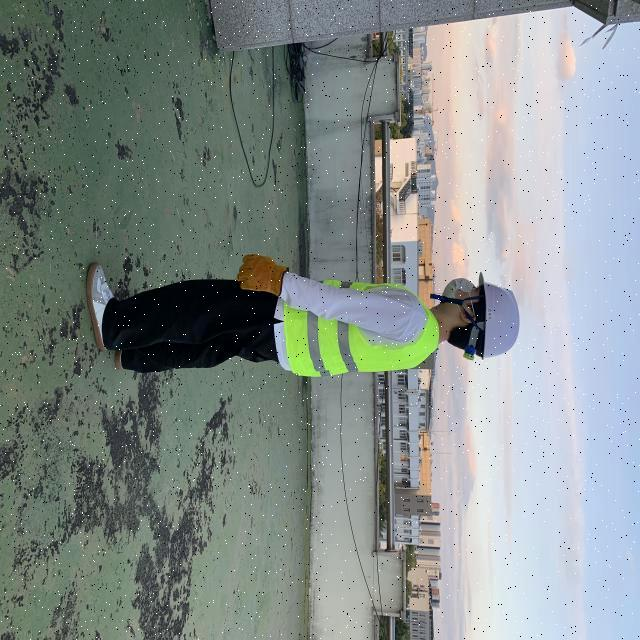Hard_hat: (474, 269, 531, 368)
Person: (34, 241, 529, 385)
Vest: (281, 278, 444, 380)
